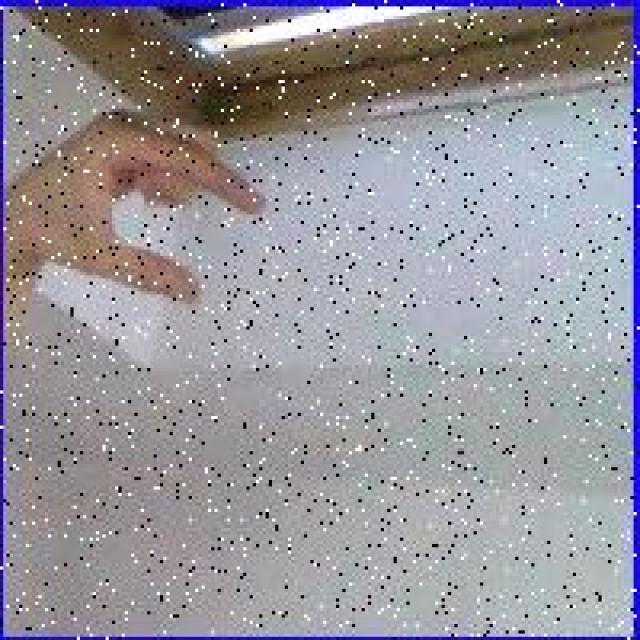Q: (32, 102, 275, 310)
